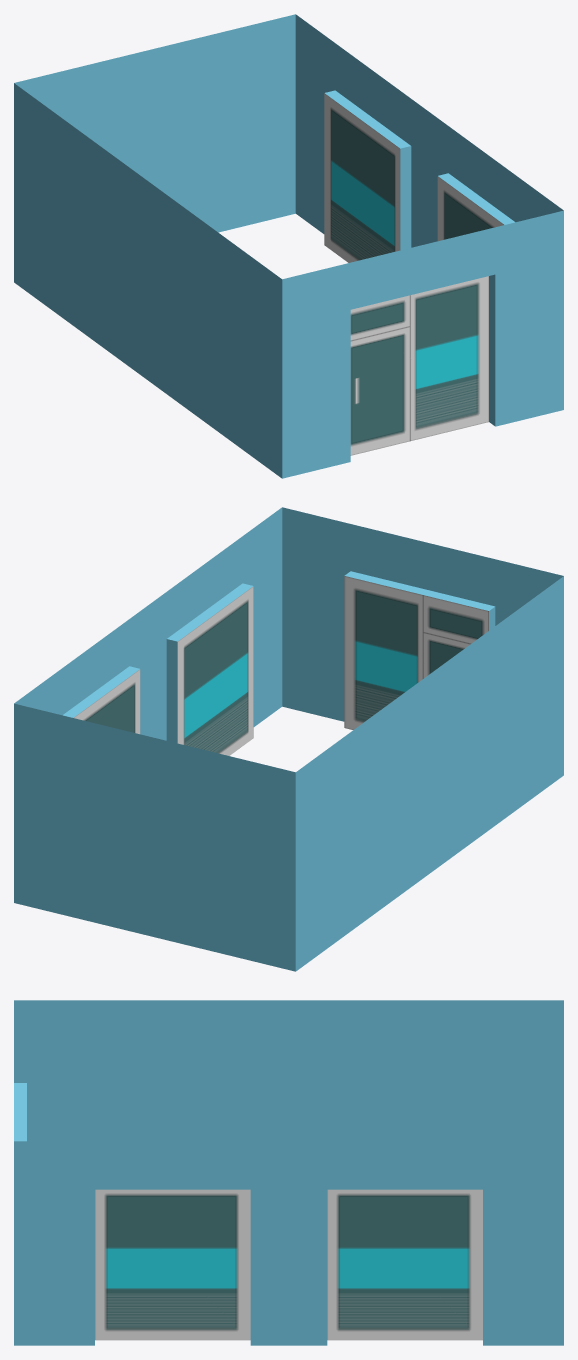
The model's file is Town_Bld-sm_BaseB_Corner.FBX.
3 views of the same model, one above another, from view 1: azimuth 30°, elevation 25°; view 2: azimuth 150°, elevation 25°; view 3: azimuth 270°, elevation 25° (orthographic). The views are drawn at different scales.
Parts seen in each view (by area): view 1: Town_Bld-sm_BaseB_Corner; view 2: Town_Bld-sm_BaseB_Corner; view 3: Town_Bld-sm_BaseB_Corner.
Part boxes in pixels (box(x1,y1,x2,y2)): Town_Bld-sm_BaseB_Corner: box(14, 14, 563, 478); Town_Bld-sm_BaseB_Corner: box(14, 507, 563, 971); Town_Bld-sm_BaseB_Corner: box(14, 1000, 563, 1345).
Bounding box in the file's own units: 301 × 204 × 497.
